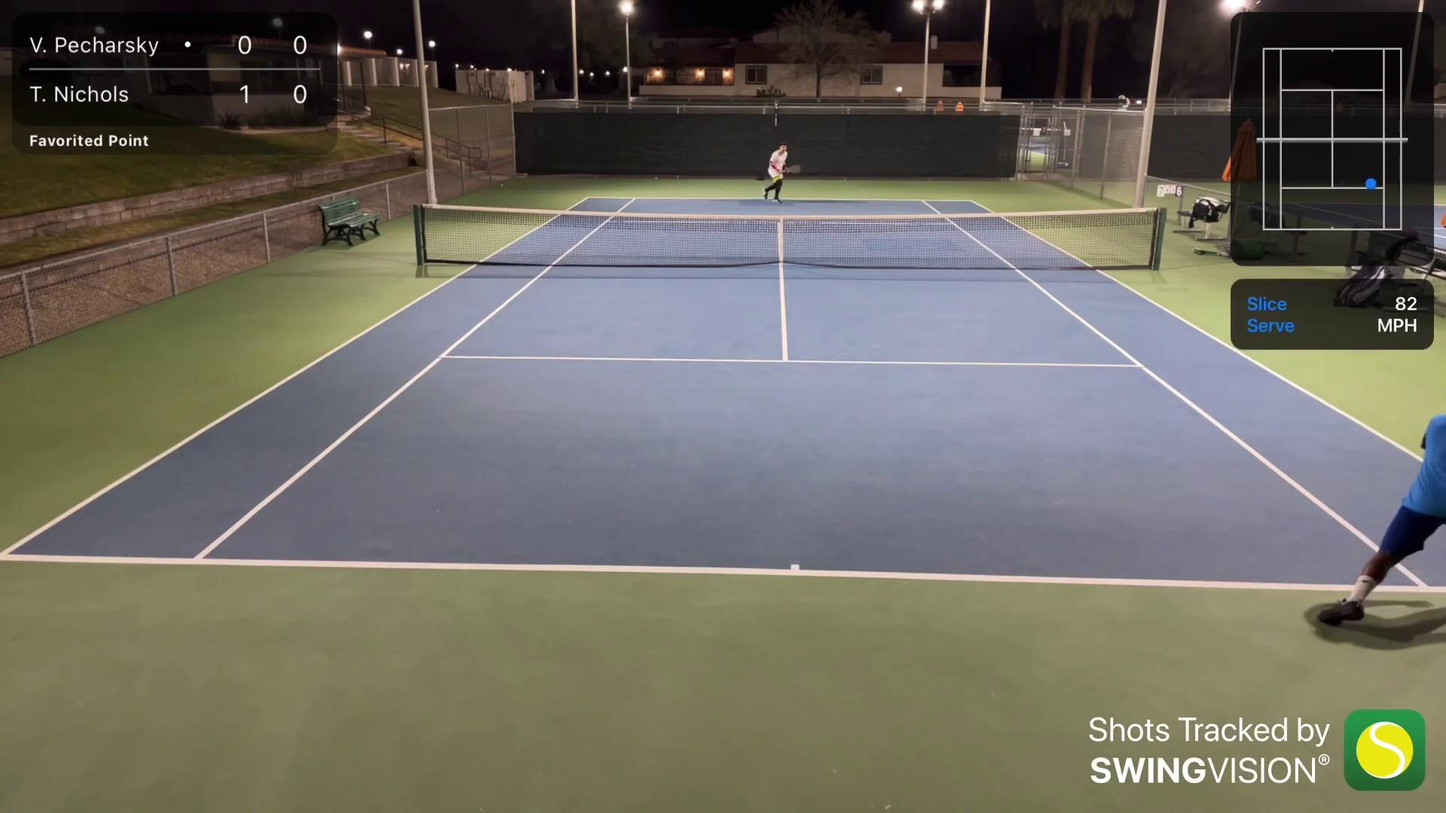ball: (498, 180, 505, 186), (655, 174, 658, 180)
